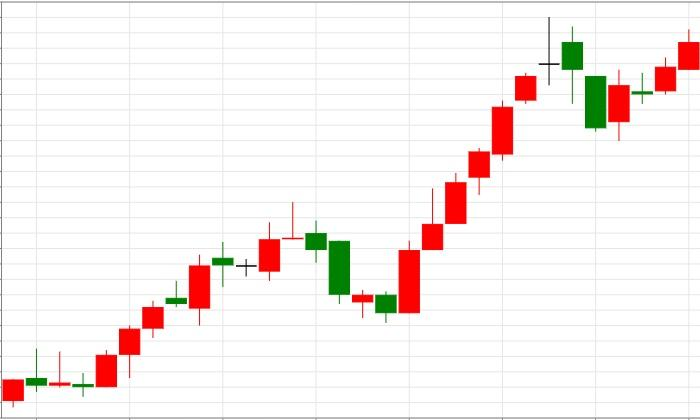three_white_soldiers_rise: (283, 173, 467, 323)
